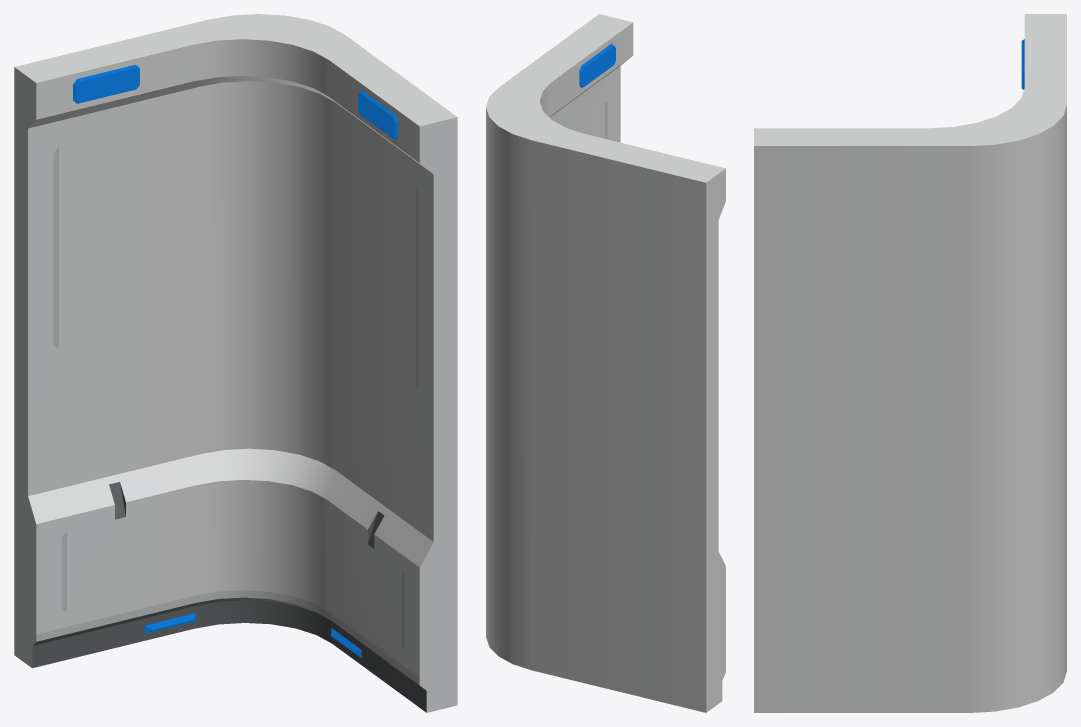
Rendered from Wall_type_A_068.glb.
The picture shows the model from 3 angles, left to right: view 1: azimuth 30°, elevation 25°; view 2: azimuth 150°, elevation 25°; view 3: azimuth 270°, elevation 25°; orthographic projection. The views are drawn at different scales.
Parts seen in each view (by area): view 1: Wall_type_A_068; view 2: Wall_type_A_068; view 3: Wall_type_A_068.
Boxes of the visible parts, box(x1,y1,x2,y2) form: Wall_type_A_068: box(14, 14, 457, 712); Wall_type_A_068: box(486, 14, 725, 712); Wall_type_A_068: box(754, 14, 1066, 712).
Bounding box in the file's own units: 2 × 4 × 2.
Materials: 2 (2 with a texture image).
